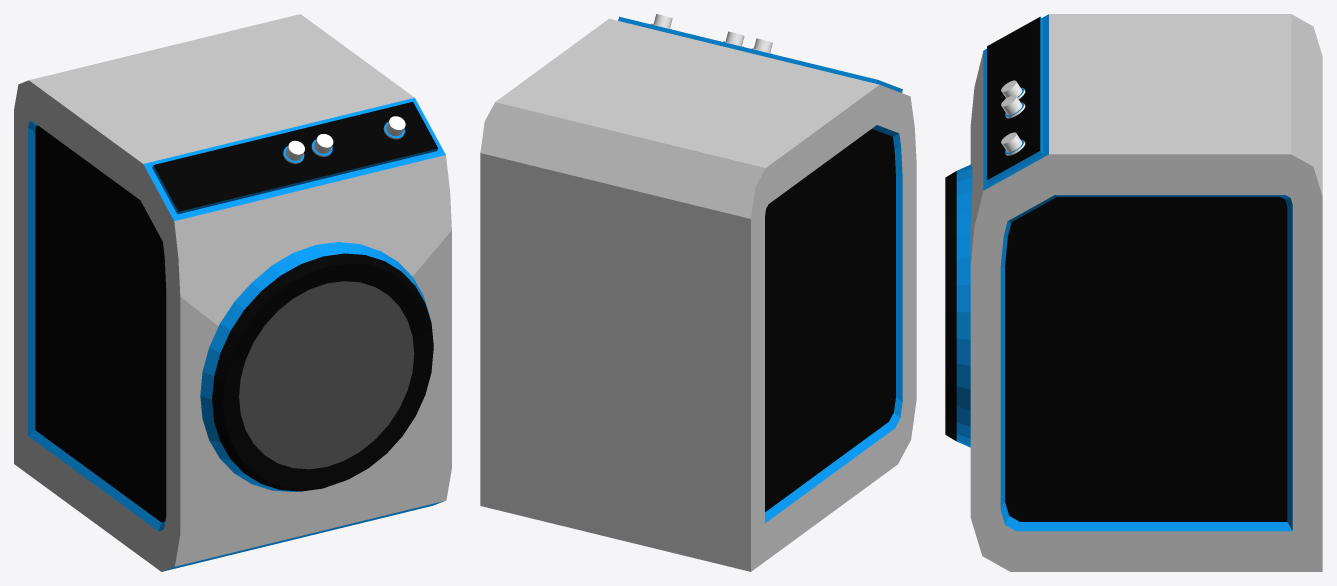
Rendered from WashingMachine.fbx.
3 views of the same model, side by side, from view 1: azimuth 30°, elevation 25°; view 2: azimuth 150°, elevation 25°; view 3: azimuth 270°, elevation 25° (orthographic). The views are drawn at different scales.
Parts seen in each view (by area): view 1: Cube; view 2: Cube; view 3: Cube.
Part boxes in pixels (x1=…): Cube: x1=14, y1=14, x2=451, y2=571; Cube: x1=480, y1=14, x2=916, y2=571; Cube: x1=945, y1=14, x2=1322, y2=571.
Size of the model in its own units: 43.07 by 60 by 48.95.
